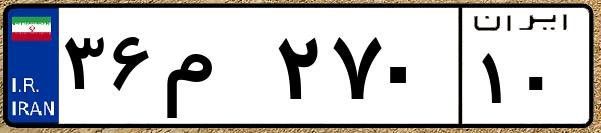0: (385, 28, 445, 110), (525, 38, 570, 115)
1: (475, 38, 525, 113)
2: (270, 28, 330, 110)
3: (57, 26, 110, 100)
6: (110, 28, 158, 98)
7: (330, 28, 385, 110)
م: (158, 20, 270, 120)
